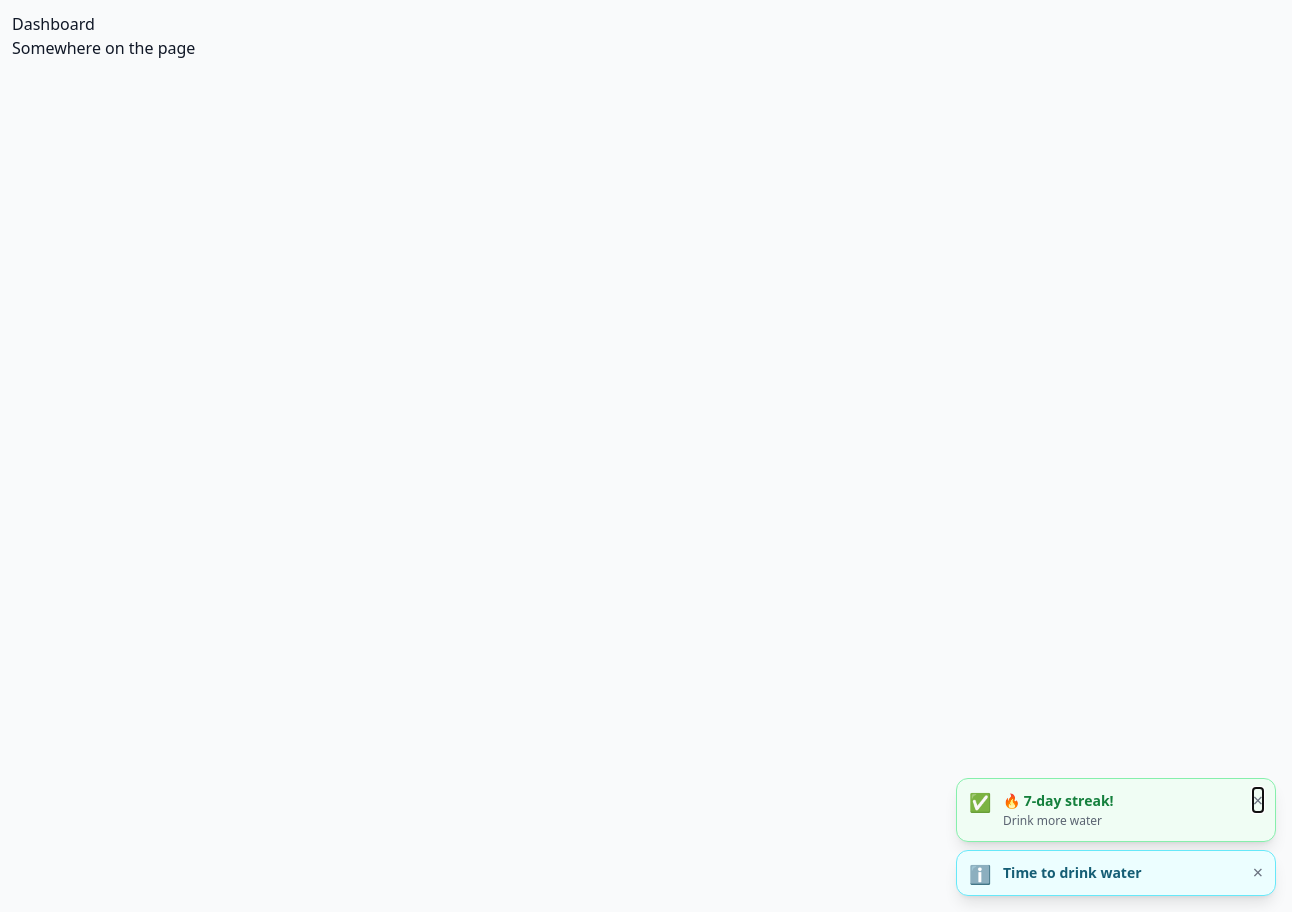
Test: ToastContainer focus after a dismissal › GivenTwoToastsAndFocusOnTheFirstsDismiss_WhenItIsPressed_ThenTheNextToastsDismissHasFocus
Click the button named "Dismiss notification" at (1258, 800), box [1253,791,1263,809]
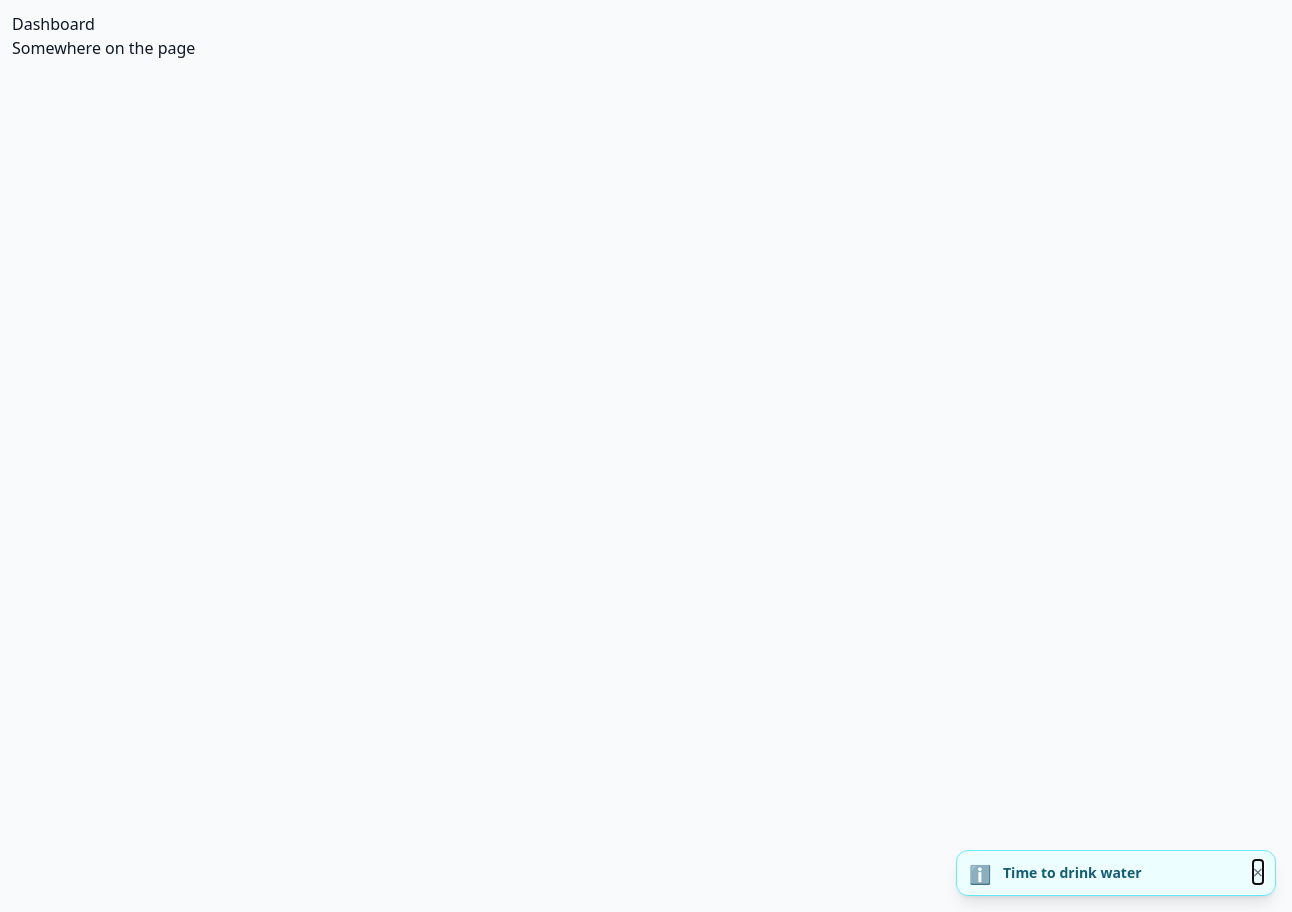
Expected: the button "🔥 7-day streak!" is gone
